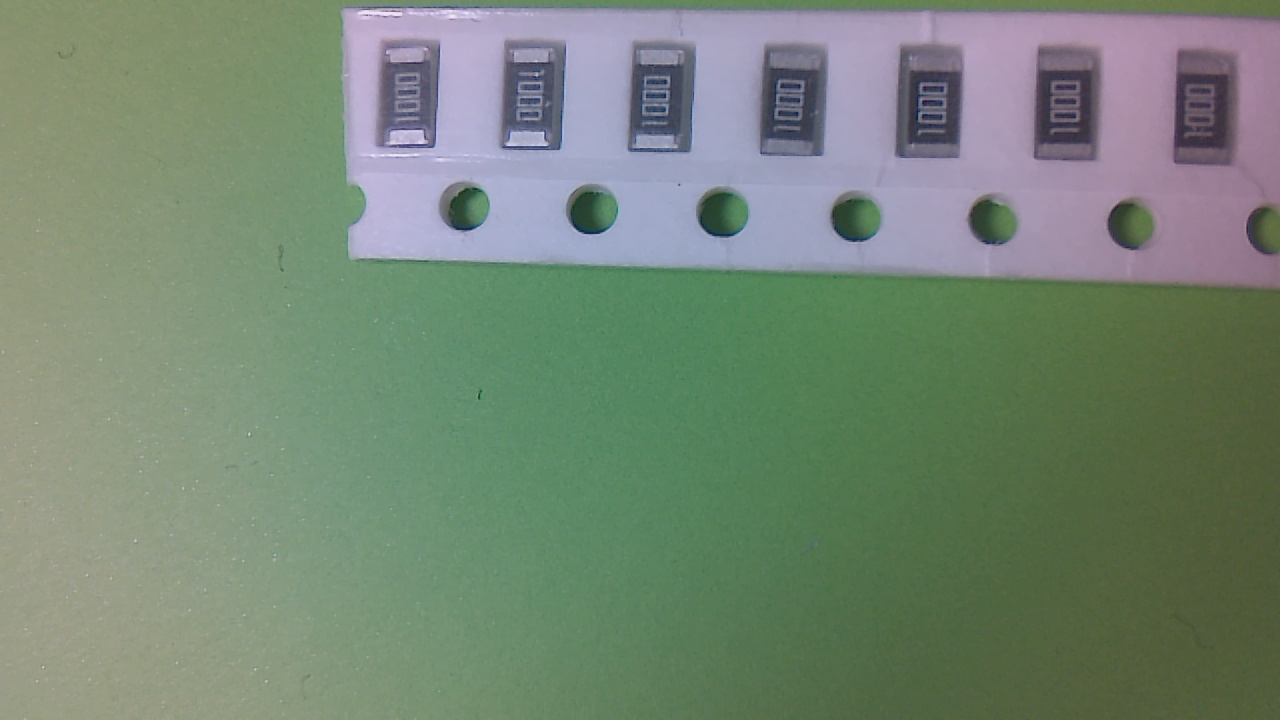Resistor: (1179, 56, 1238, 173), (903, 57, 966, 166), (1041, 59, 1102, 166), (767, 56, 829, 160), (635, 51, 696, 156), (510, 52, 569, 157), (386, 48, 438, 153)
